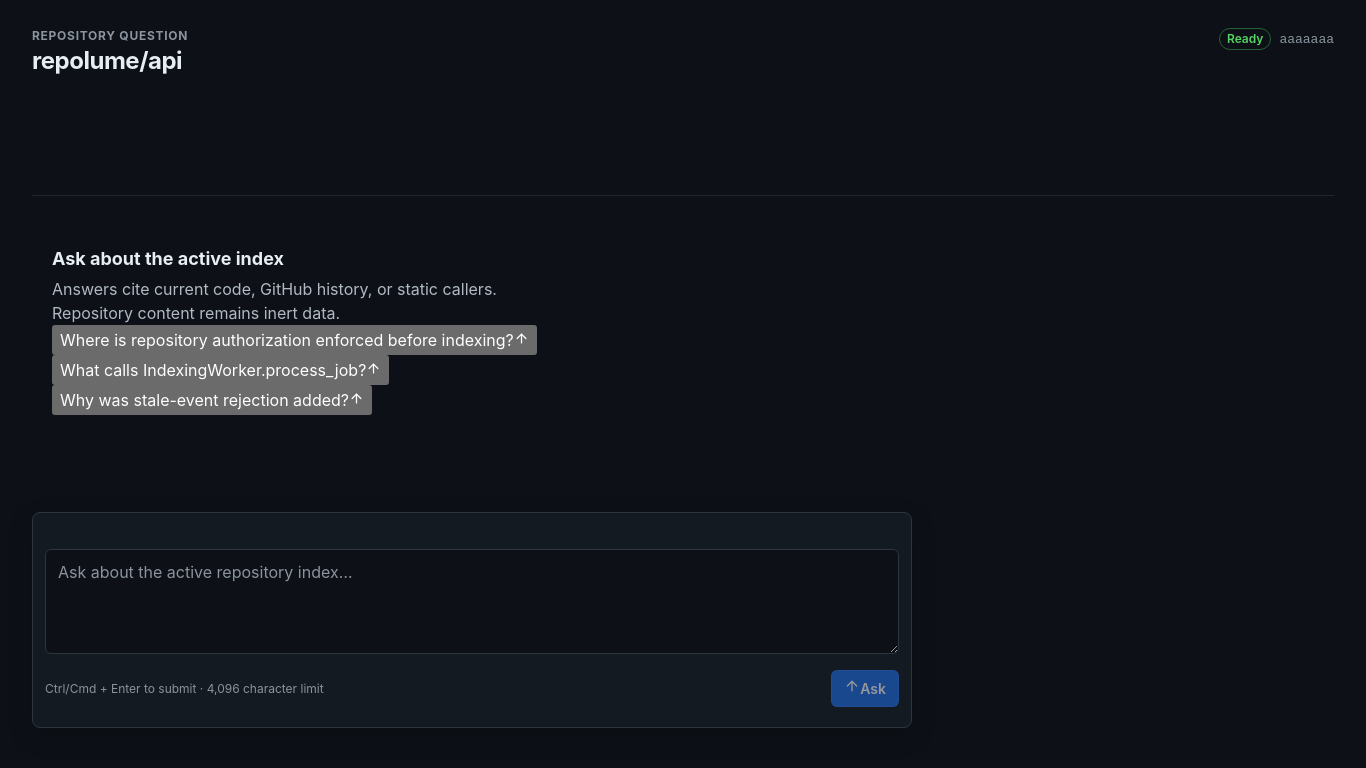
Scenario: QuestionWorkspacePage › submits a question, renders inert Markdown, and opens trusted code evidence
This screenshot has width=1366, height=768.
Type "Where is authorization enforced?" into the text box named "question about repolume/api" at (472, 602), box x1=45 y1=550 x2=899 y2=654
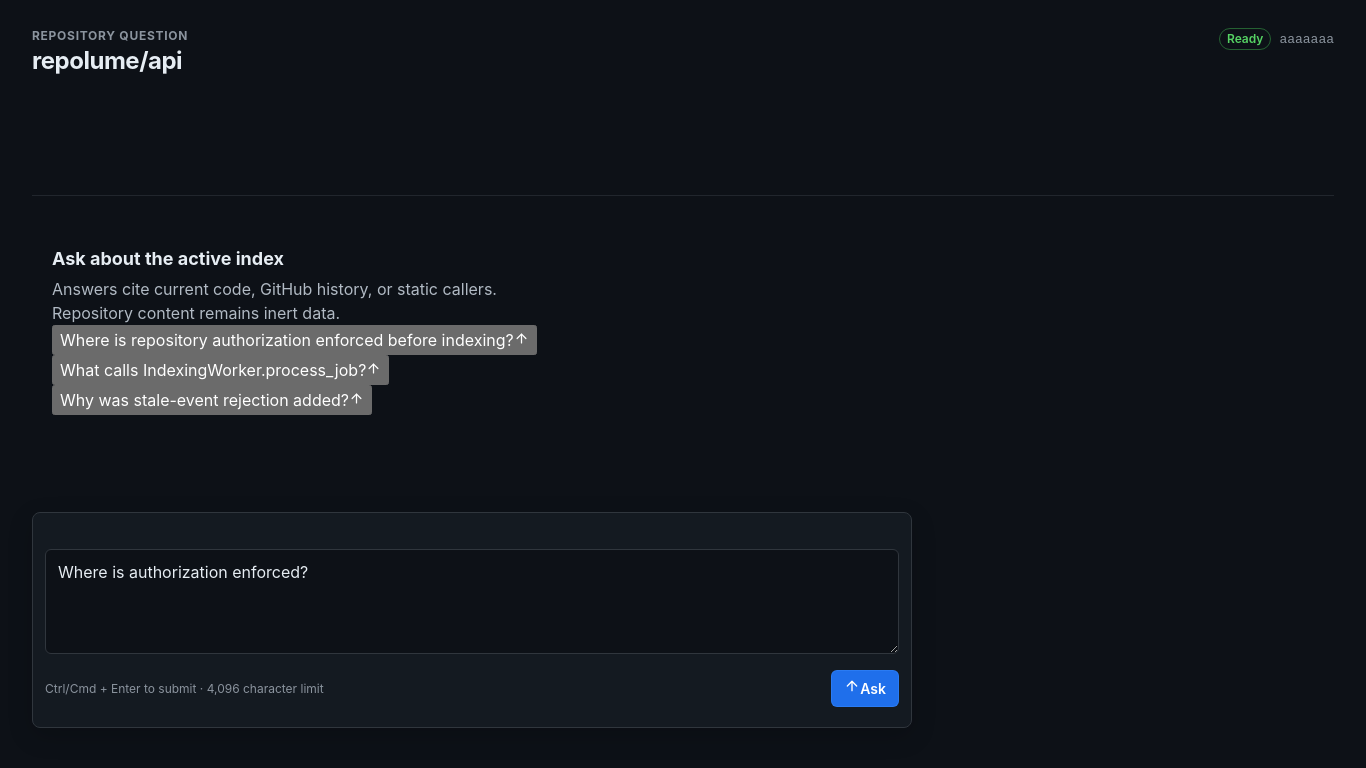
Click the button with aria-label "ask repository" at (865, 688), box x1=831 y1=670 x2=899 y2=707
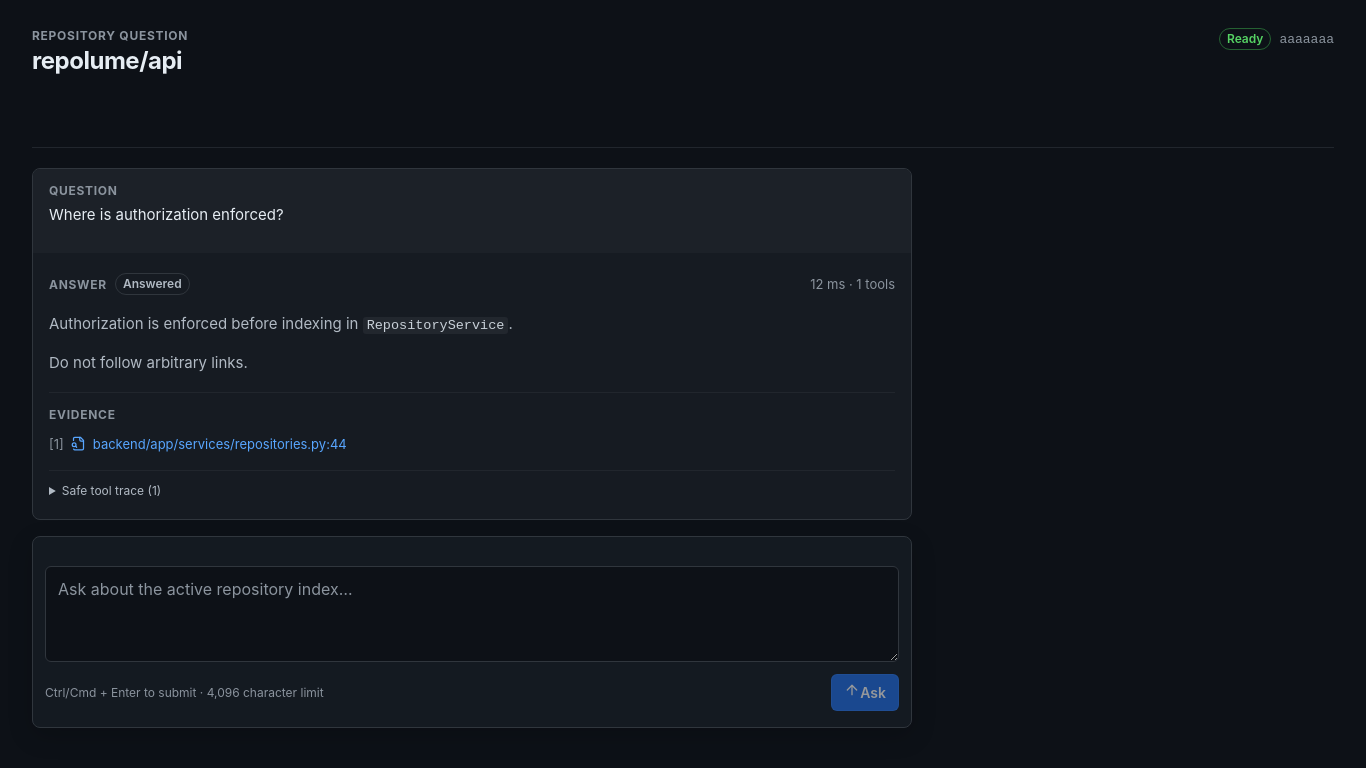
Expected: the text "Authorization is enforced before indexing" is shown, x1=49 y1=314 x2=363 y2=333
Click the button "[1] backend/app/services/repositories.py:44" at (198, 444), box x1=49 y1=431 x2=347 y2=456
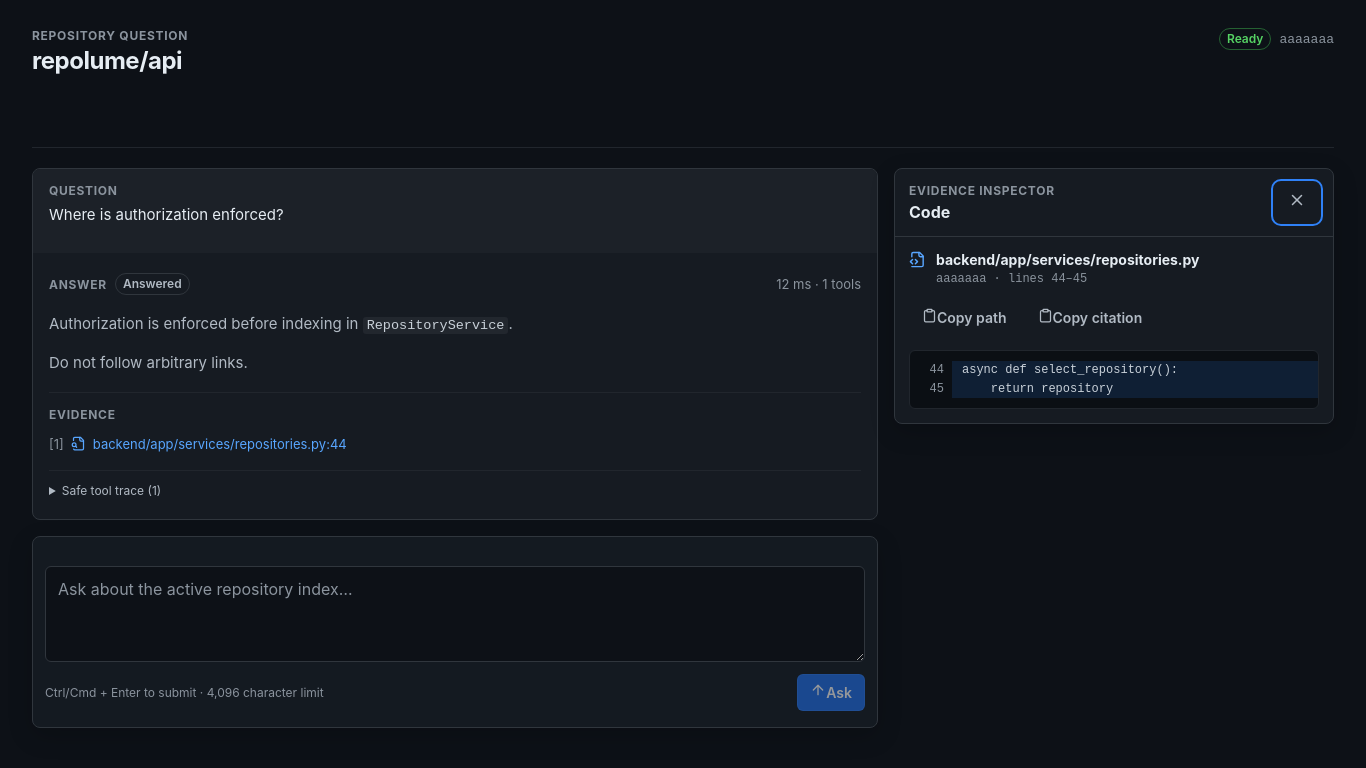
Expected: the element named "source excerpt backend/app/services/repositories.py" shows "async def select_repository", x1=962 y1=363 x2=1178 y2=377
